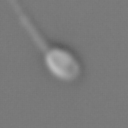normal: (10, 1, 48, 52)
